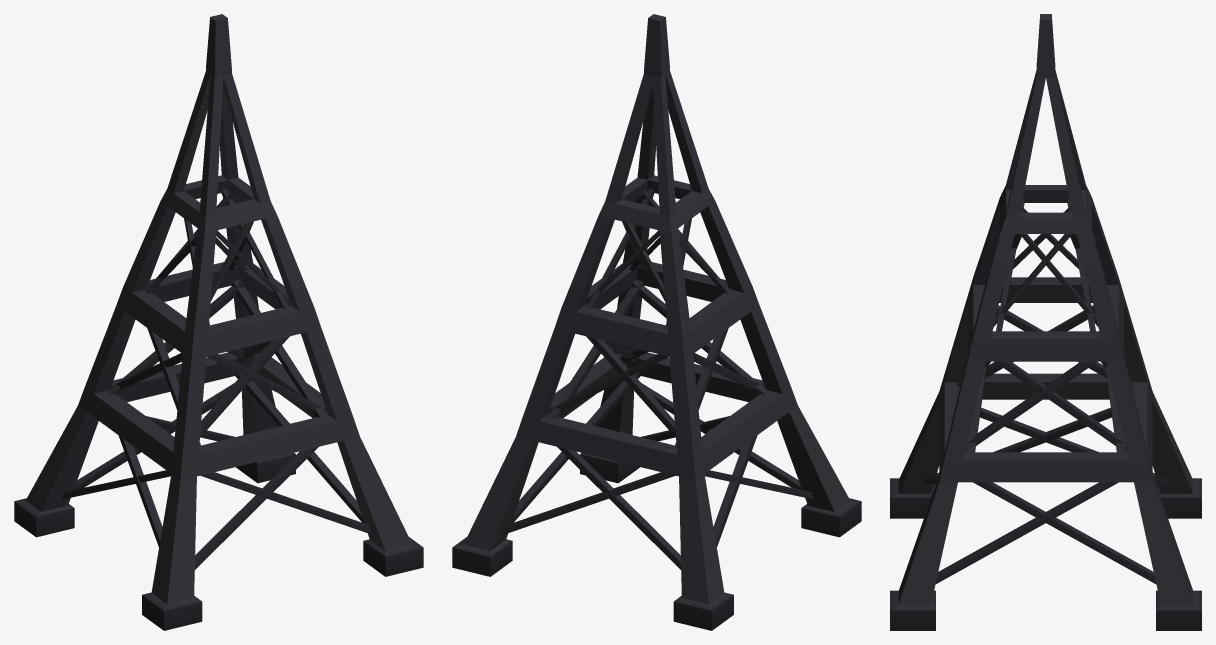
The model's file is Radio_tower.fbx.
3 renders of one model, left to right at view 1: azimuth 30°, elevation 25°; view 2: azimuth 150°, elevation 25°; view 3: azimuth 270°, elevation 25°, orthographic. The views are drawn at different scales.
Visible parts, largest first — view 1: Cube.001, Cube.003, Cube.006; view 2: Cube.001, Cube.003, Cube.006; view 3: Cube.001, Cube.006, Cube.003.
Boxes of the visible parts, <box> form: Cube.001: <box>14,14,423,630</box>; Cube.003: <box>74,190,371,569</box>; Cube.006: <box>62,188,363,546</box>; Cube.001: <box>452,14,861,630</box>; Cube.003: <box>504,190,801,569</box>; Cube.006: <box>512,188,813,546</box>; Cube.001: <box>890,14,1201,630</box>; Cube.006: <box>935,207,1156,583</box>; Cube.003: <box>922,200,1169,485</box>.
Size of the model in its own units: 707 by 1372 by 707.
1 material, 1 textured.
